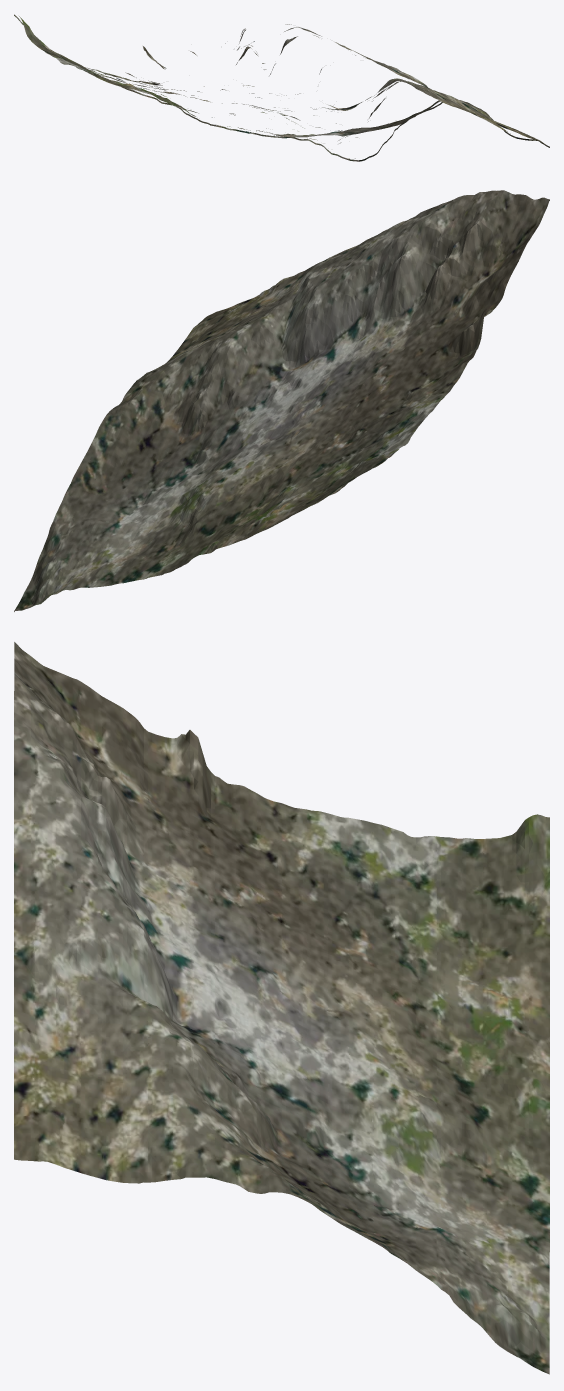
The picture shows the model from 3 angles, top to bottom: view 1: azimuth 30°, elevation 25°; view 2: azimuth 150°, elevation 25°; view 3: azimuth 270°, elevation 25°; orthographic projection. The views are drawn at different scales.
Bounding box in the file's own units: 250 × 248 × 241.
Materials: 1 (1 with a texture image).
